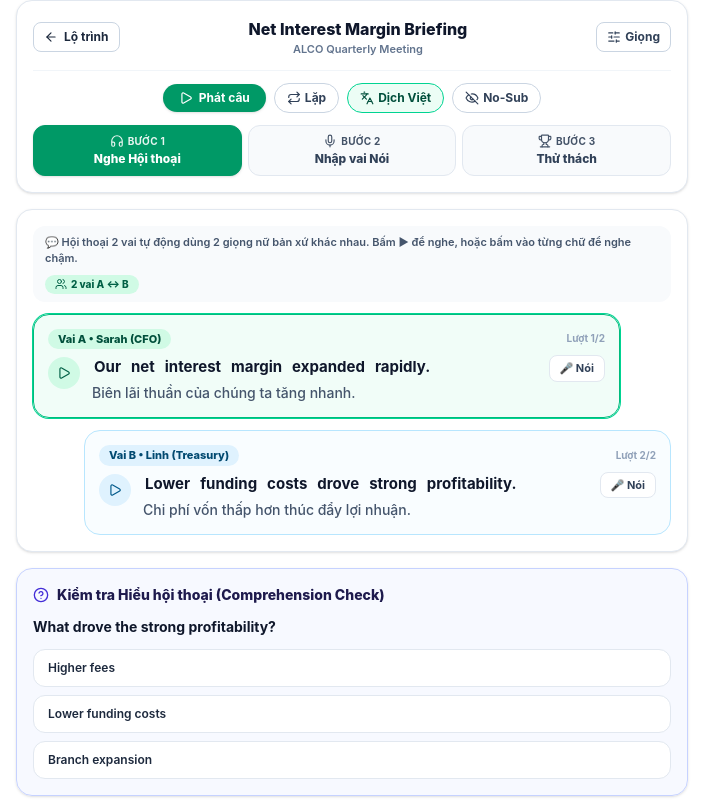
Scenario: LessonPlayer › renders guided 3-step stepper, 2-role dialogue bubbles, comprehension quiz, and toggles No-Sub cleanly
Check: the heading "Net Interest Margin Briefing" is shown, box 248,19 -> 467,39
Check: the button "Bước 1 Nghe Hội thoại" is shown, box 33,124 -> 242,176
Step 1. Click the button "Lower funding costs" → click(107, 714), box 33,695 -> 671,733
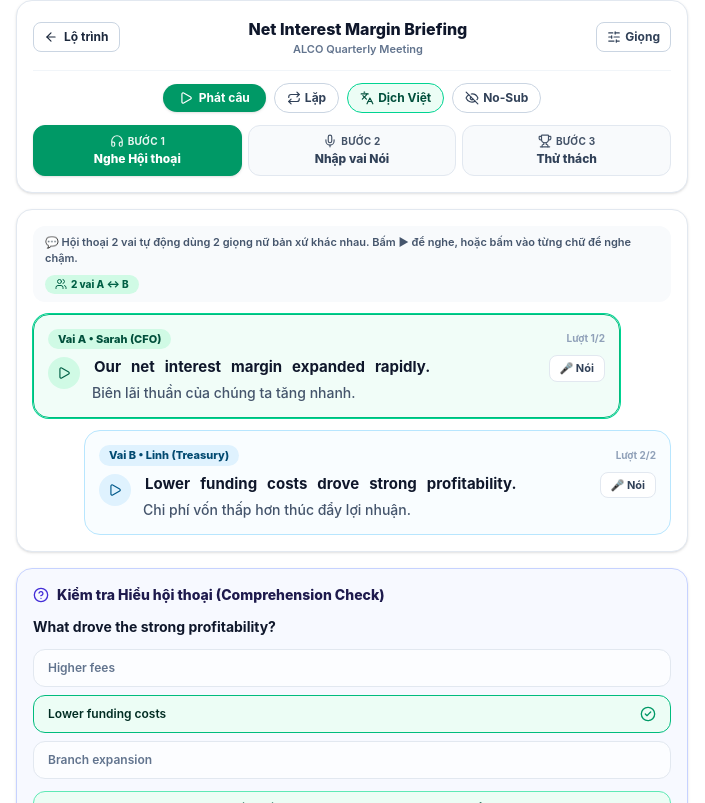
Toggle No-Sub hides subtitle text
Step 2. Click the button "No-Sub" → click(497, 98), box 452,82 -> 541,112
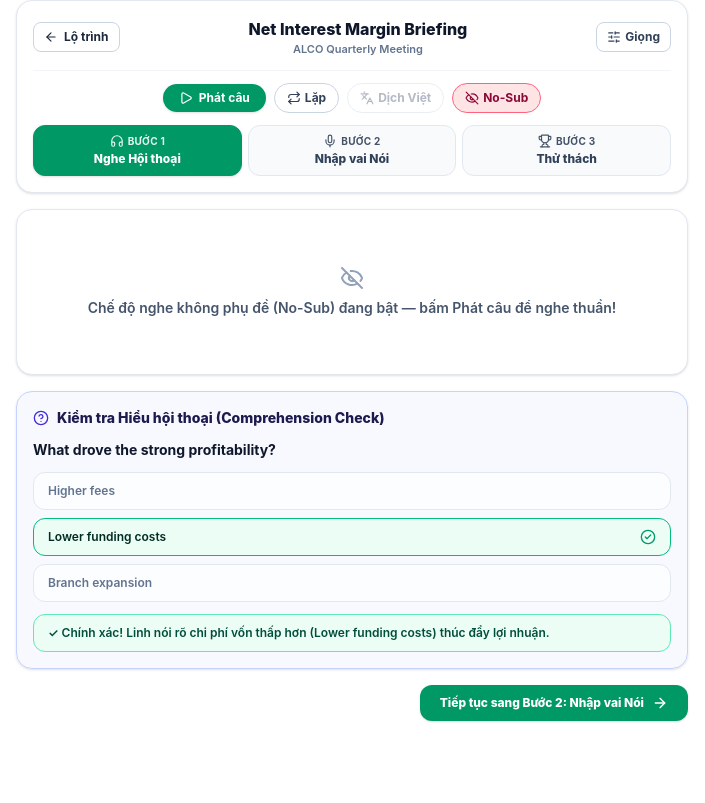
Check: the text "Biên lãi thuần của chúng ta tăng nhanh." is gone
Check: the text "Chế độ nghe không phụ đề" is shown, box 88,298 -> 616,316
